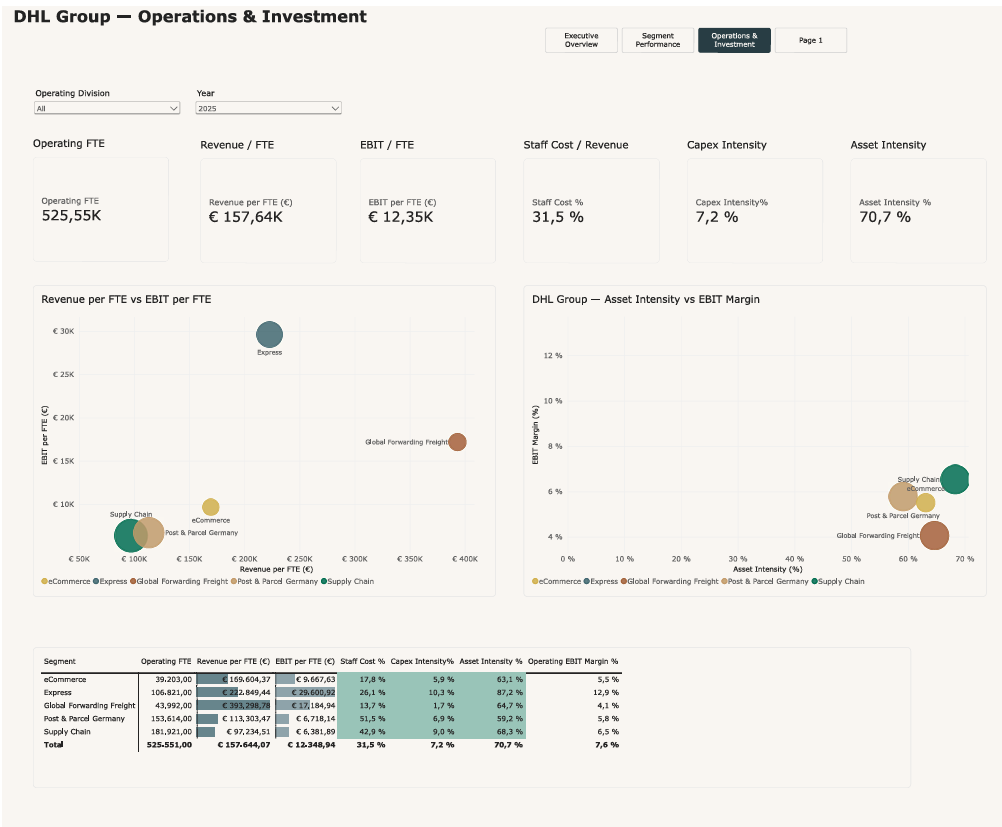

What the dashboard file says about the page in this screenshot:
{"tool":"powerbi","page":{"name":"Operations & Investment","canvas":[2000,1650],"ordinal":2},"visuals":[{"type":"slicer","title":"Operating Division","fields":{"Values":["DimSegment.Segment"]},"box":[56.7,163.3,301.7,96.7],"z":0},{"type":"slicer","title":"Operating Division","fields":{"Values":["DimYear.Year"]},"box":[377.5,162.5,301.7,96.7],"z":1000},{"type":"textbox","box":[10,0,810,55],"z":2000},{"type":"cardVisual","title":"Operating FTE","fields":{"Data":["SegmentMaster.Operating FTE"]},"box":[60,260,270,247.5],"z":3000},{"type":"cardVisual","title":"Revenue / FTE","fields":{"Data":["SegmentMaster.Revenue per FTE (€)"]},"box":[393.3,263.3,270,247.5],"z":4000},{"type":"cardVisual","title":"EBIT / FTE","fields":{"Data":["SegmentMaster.EBIT per FTE (€)"]},"box":[710,263.3,270,247.5],"z":5000},{"type":"cardVisual","title":"Staff Cost / Revenue","fields":{"Data":["SegmentMaster.Staff Cost %"]},"box":[1035,263.3,270,247.5],"z":6000},{"type":"scatterChart","title":"Revenue per FTE vs EBIT per FTE","fields":{"Series":["DimSegment.Segment"],"Size":["SegmentMaster.Operating FTE"],"X":["SegmentMaster.Revenue per FTE (€)"],"Y":["SegmentMaster.EBIT per FTE (€)"]},"box":[60,555,920,620],"z":7000},{"type":"scatterChart","title":"DHL Group — Asset Intensity vs EBIT Margin","fields":{"Series":["DimSegment.Segment"],"Size":["DimSegment.Segment Revenue (€bn)"],"X":["SegmentMaster.Asset Intensity %"],"Y":["SegmentMaster.Operating EBIT Margin %"]},"box":[1035,555,920,620],"z":8000},{"type":"pivotTable","fields":{"Rows":["DimSegment.Segment"],"Values":["SegmentMaster.Operating FTE","SegmentMaster.Revenue per FTE (€)","SegmentMaster.EBIT per FTE (€)","SegmentMaster.Staff Cost %","SegmentMaster.Capex Intensity%","SegmentMaster.Asset Intensity %","SegmentMaster.Operating EBIT Margin %"]},"box":[60,1275,1745,280],"z":9000},{"type":"cardVisual","title":"Capex Intensity","fields":{"Data":["SegmentMaster.Capex Intensity%"]},"box":[1360,263.3,270,247.5],"z":10000},{"type":"cardVisual","title":"Asset Intensity","fields":{"Data":["SegmentMaster.Asset Intensity %"]},"box":[1685,263.3,270,247.5],"z":11000},{"type":"pageNavigator","box":[1077.5,42.5,600,50],"z":12000}]}

Visuals, with their boxes in screenshot pixels (x1, y1, x2, y2), scaled from the page's 2000x1650 canvas onto the 1002x827 screenshot:
"Operating Division" slicer: <box>28,82,180,130</box>
"Operating Division" slicer: <box>189,81,340,130</box>
textbox: <box>5,0,411,28</box>
"Operating FTE" cardVisual: <box>30,130,165,254</box>
"Revenue / FTE" cardVisual: <box>197,132,332,256</box>
"EBIT / FTE" cardVisual: <box>356,132,491,256</box>
"Staff Cost / Revenue" cardVisual: <box>519,132,654,256</box>
"Revenue per FTE vs EBIT per FTE" scatterChart: <box>30,278,491,589</box>
"DHL Group — Asset Intensity vs EBIT Margin" scatterChart: <box>519,278,979,589</box>
pivotTable - DimSegment.Segment x SegmentMaster.Operating FTE: <box>30,639,904,779</box>
"Capex Intensity" cardVisual: <box>681,132,817,256</box>
"Asset Intensity" cardVisual: <box>844,132,979,256</box>
pageNavigator: <box>540,21,840,46</box>
